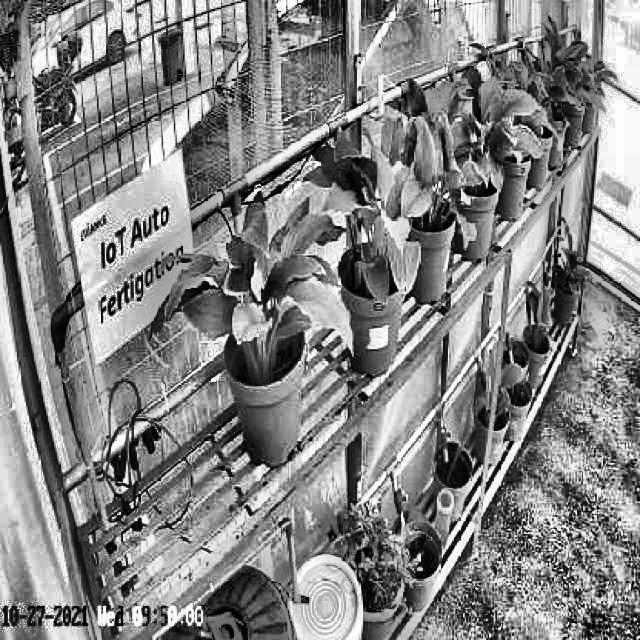plants: (154, 188, 354, 377), (310, 120, 419, 302), (386, 80, 474, 254), (434, 51, 540, 192)
